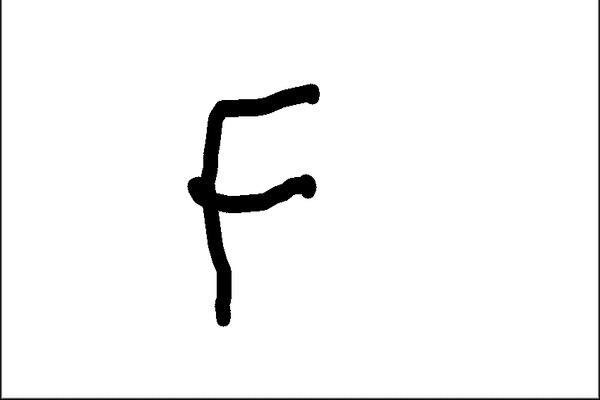F: (183, 80, 324, 329)
